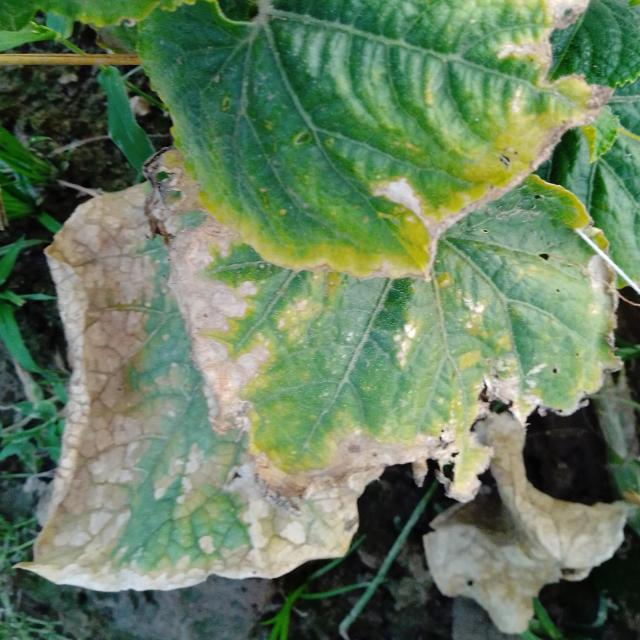cucumber_gummy: (136, 148, 626, 512), (11, 168, 368, 596), (133, 0, 619, 285), (418, 398, 628, 640)
